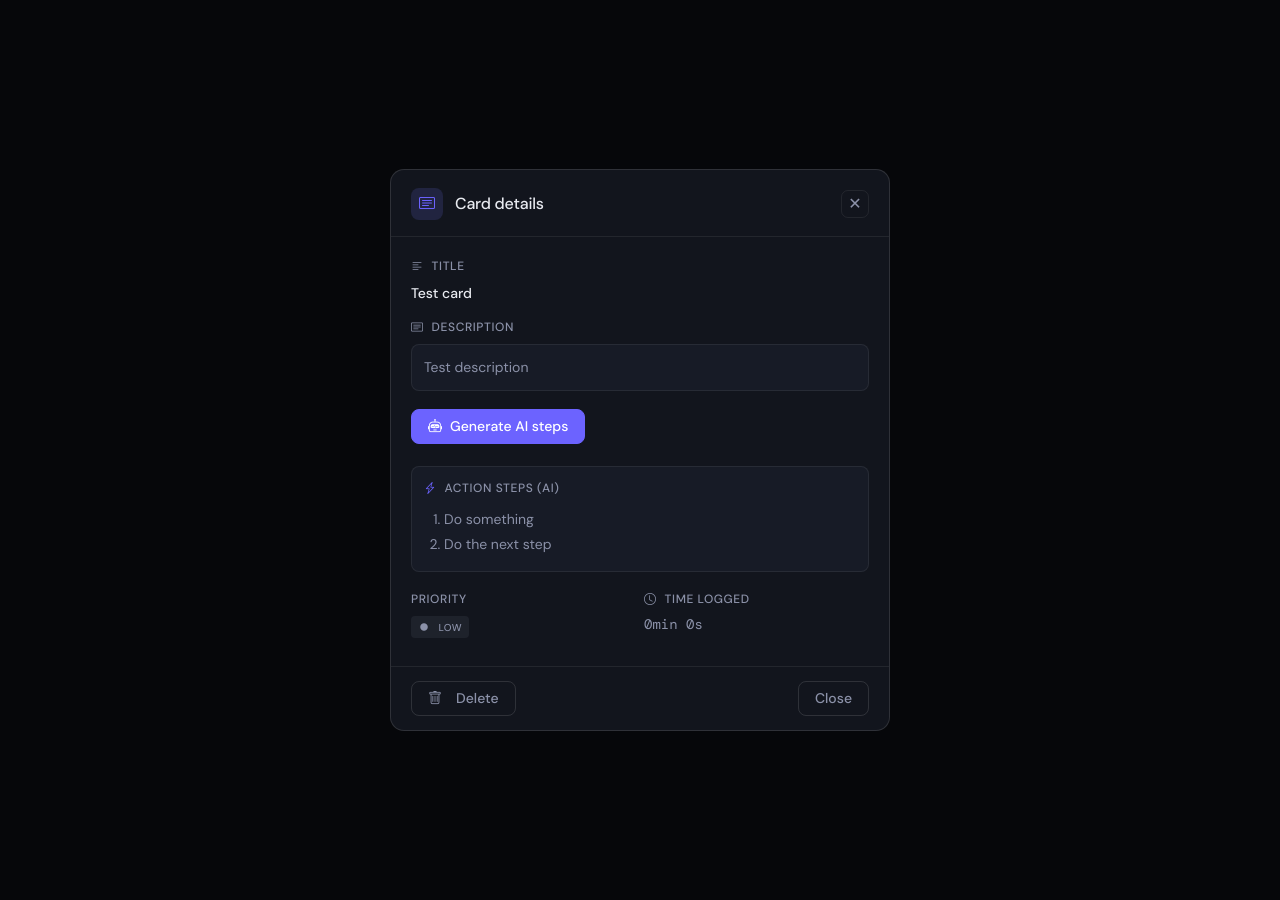
it: TaskModal › shows thrown invocation errors and supports Reject
Click the button "Generate AI steps" at x=498, y=427, box [411, 409, 585, 444]
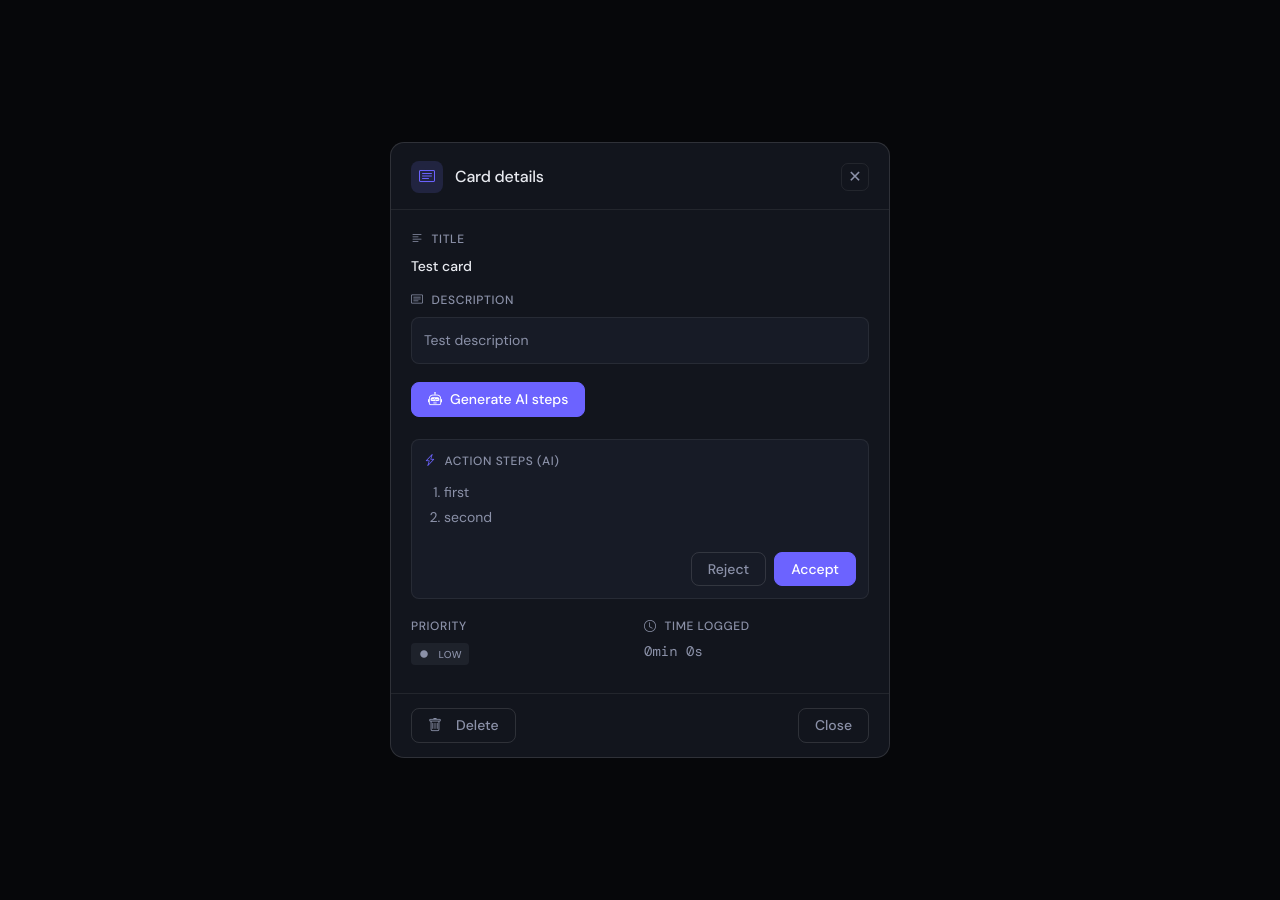
Expected: the button "Reject" is shown
Click the button "Reject" at x=728, y=569, box [691, 552, 766, 586]
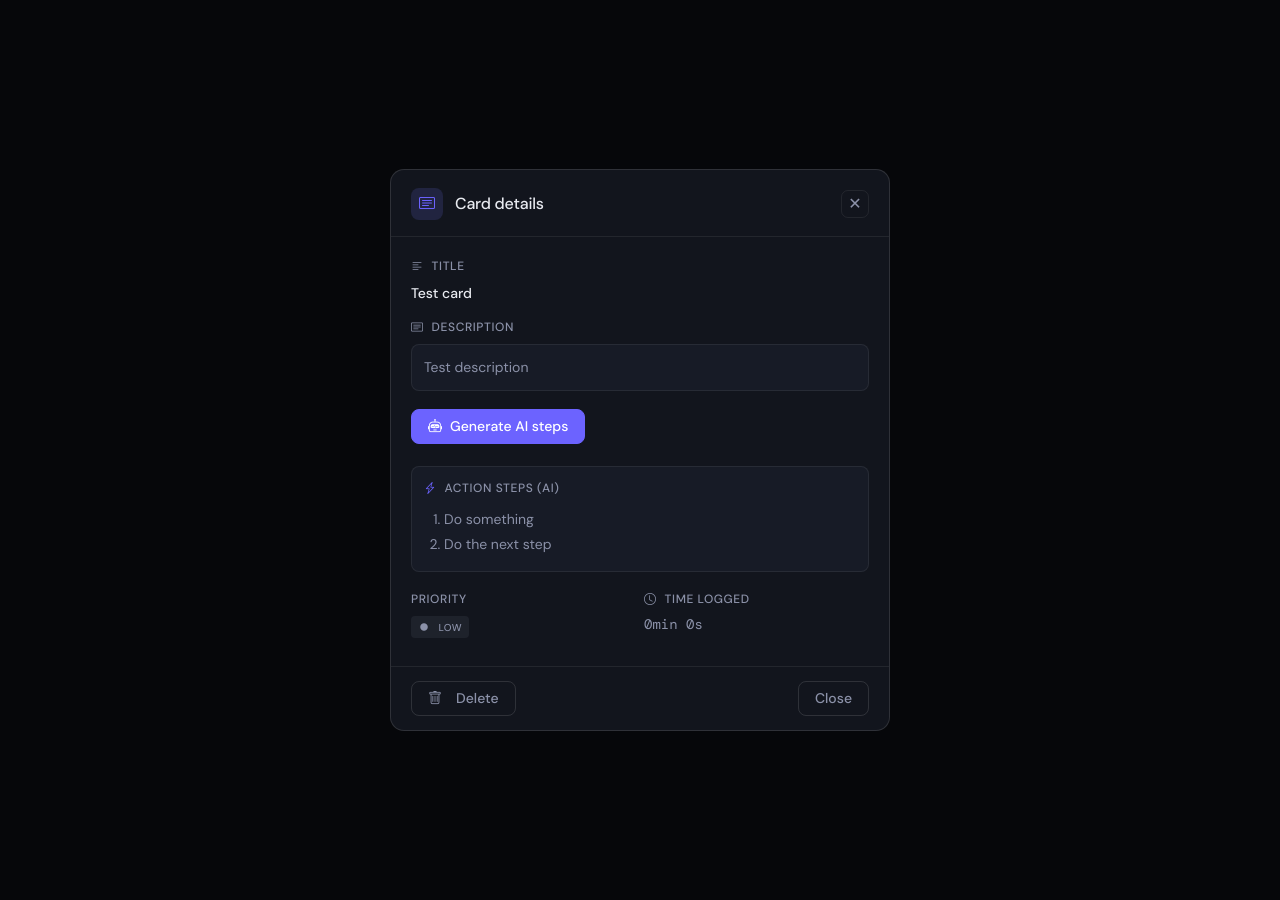
Expected: the button "Reject" is gone
Click the button "Generate AI steps" at x=498, y=427, box [411, 409, 585, 444]
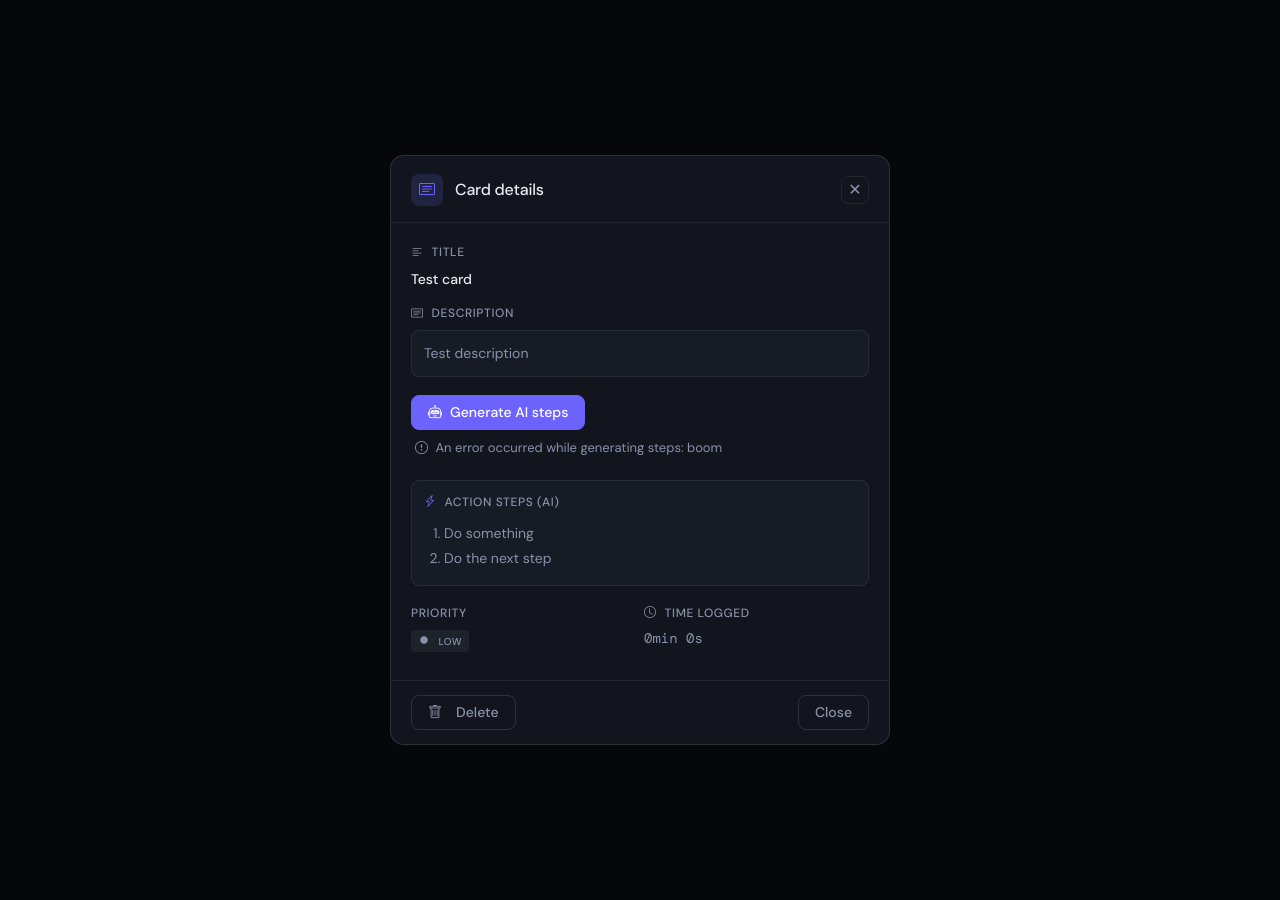
Expected: the text "An error occurred while generating steps: boom" is shown, [415, 439, 722, 456]
